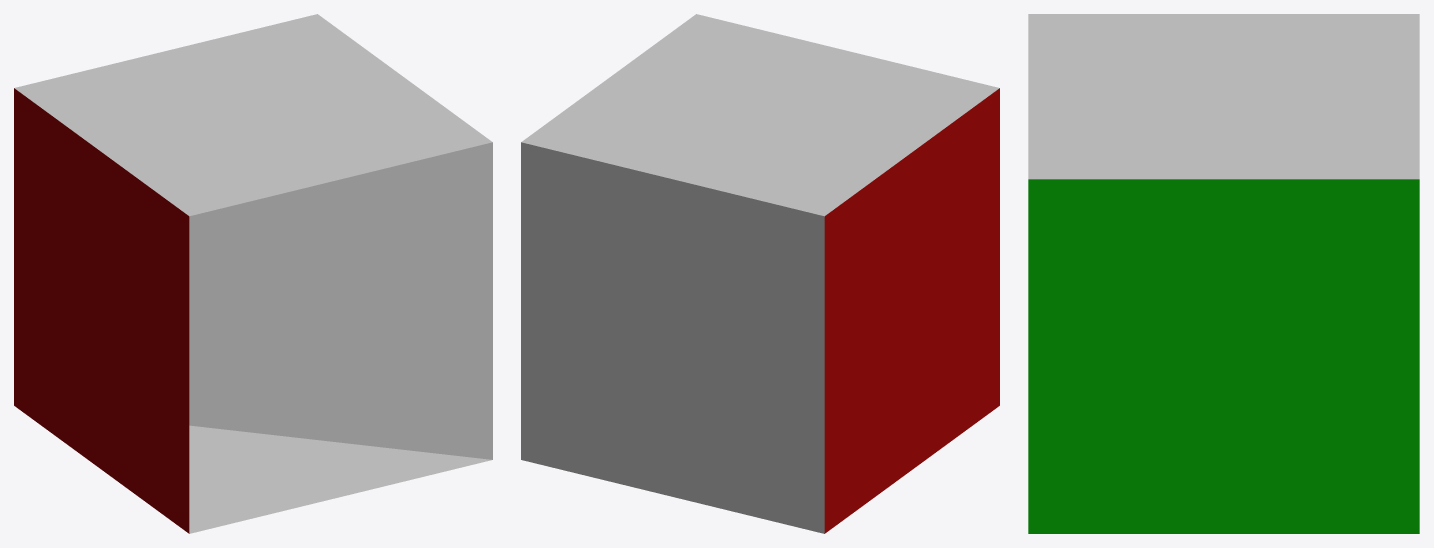
The model's file is cornell_box.obj.
3 renders of one model, left to right at view 1: azimuth 30°, elevation 25°; view 2: azimuth 150°, elevation 25°; view 3: azimuth 270°, elevation 25°, orthographic. The views are drawn at different scales.
Parts seen in each view (by area): view 1: cornell_box; view 2: cornell_box; view 3: cornell_box.
Boxes of the visible parts, x1,y1,x2,y2 form: cornell_box: (14,14,492,533); cornell_box: (521,14,999,533); cornell_box: (1028,14,1419,533).
Size of the model in its own units: 2 by 2 by 2.
